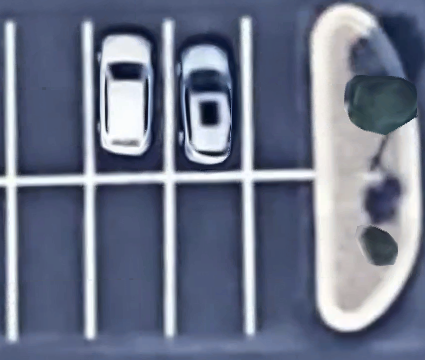Occupied: (86, 22, 170, 176), (170, 22, 248, 176)
Vacant: (10, 180, 92, 338), (90, 177, 170, 336), (170, 176, 250, 333), (10, 21, 88, 180), (249, 174, 323, 332), (246, 21, 321, 173)
